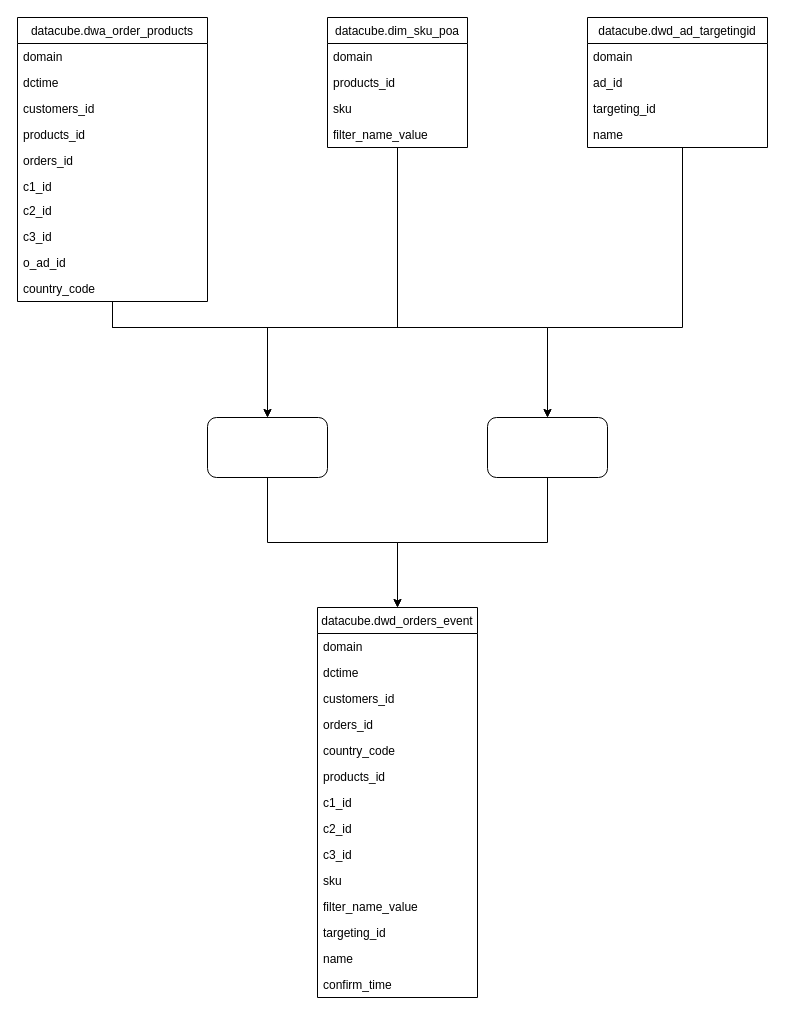
This 785x1018 diagram has some shape labels left out. Each missing label, with the centre of its shape:
"domain, o_ad_id进行left join" belongs at point (547, 447).
"domain, products_id进行left join" belongs at point (267, 447).
